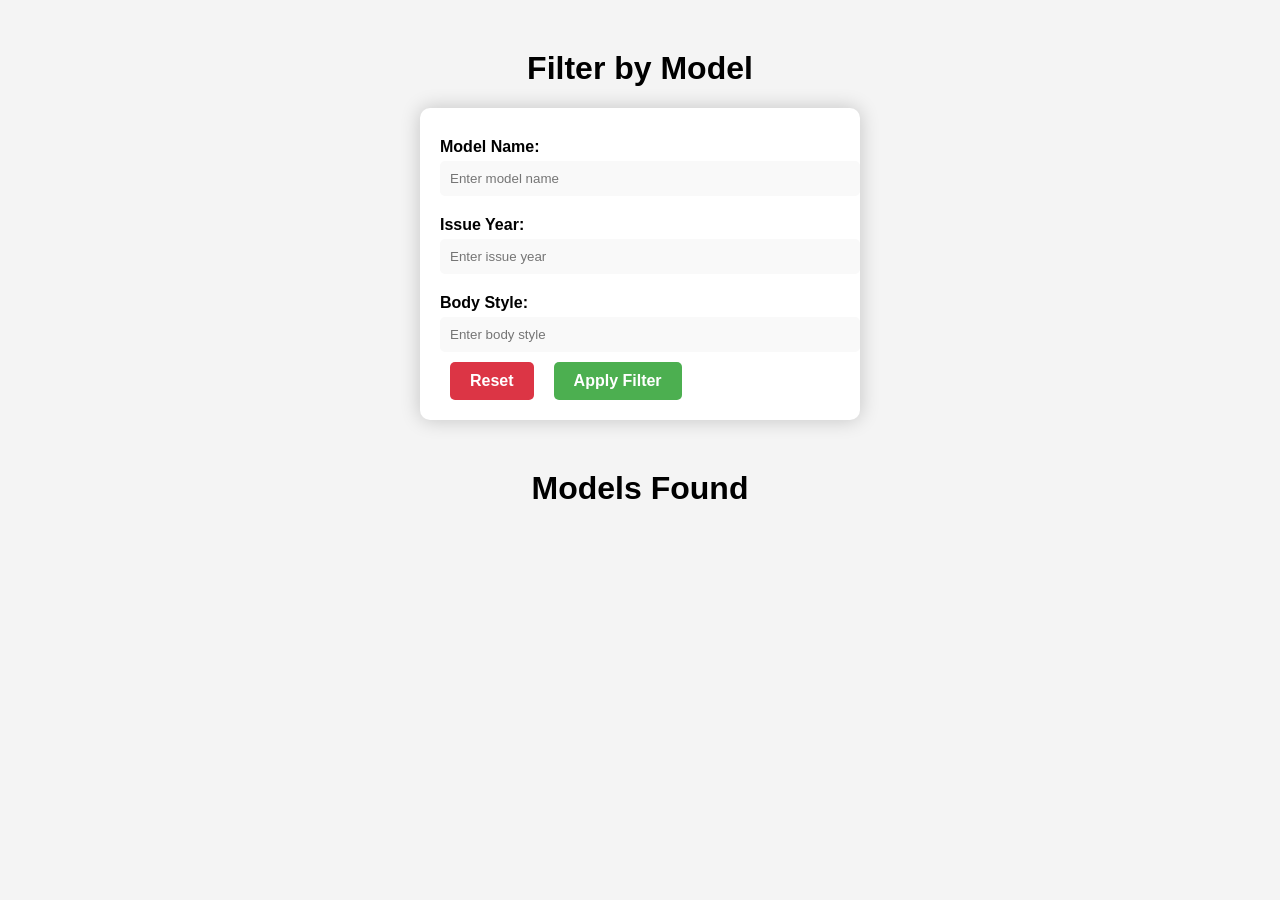
Test: ModelTab › resets model filters
Type "Octavia" into the field labelled "Model Name:".
click(650, 179); type("Octavia")  # box [440,161,860,196]
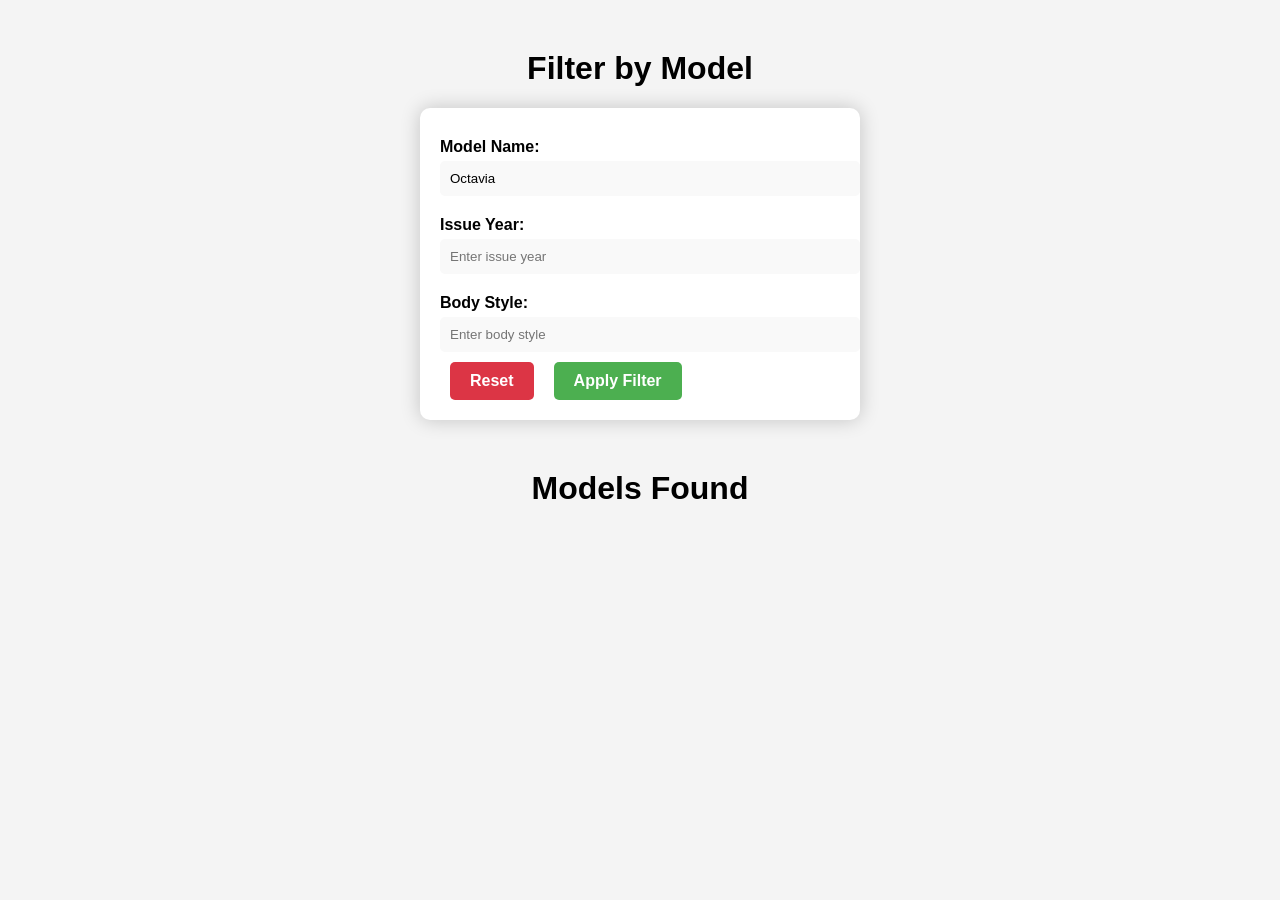
Type "2022" into the number field labelled "Issue Year:".
click(650, 257); type("2022")  # box [440,239,860,274]
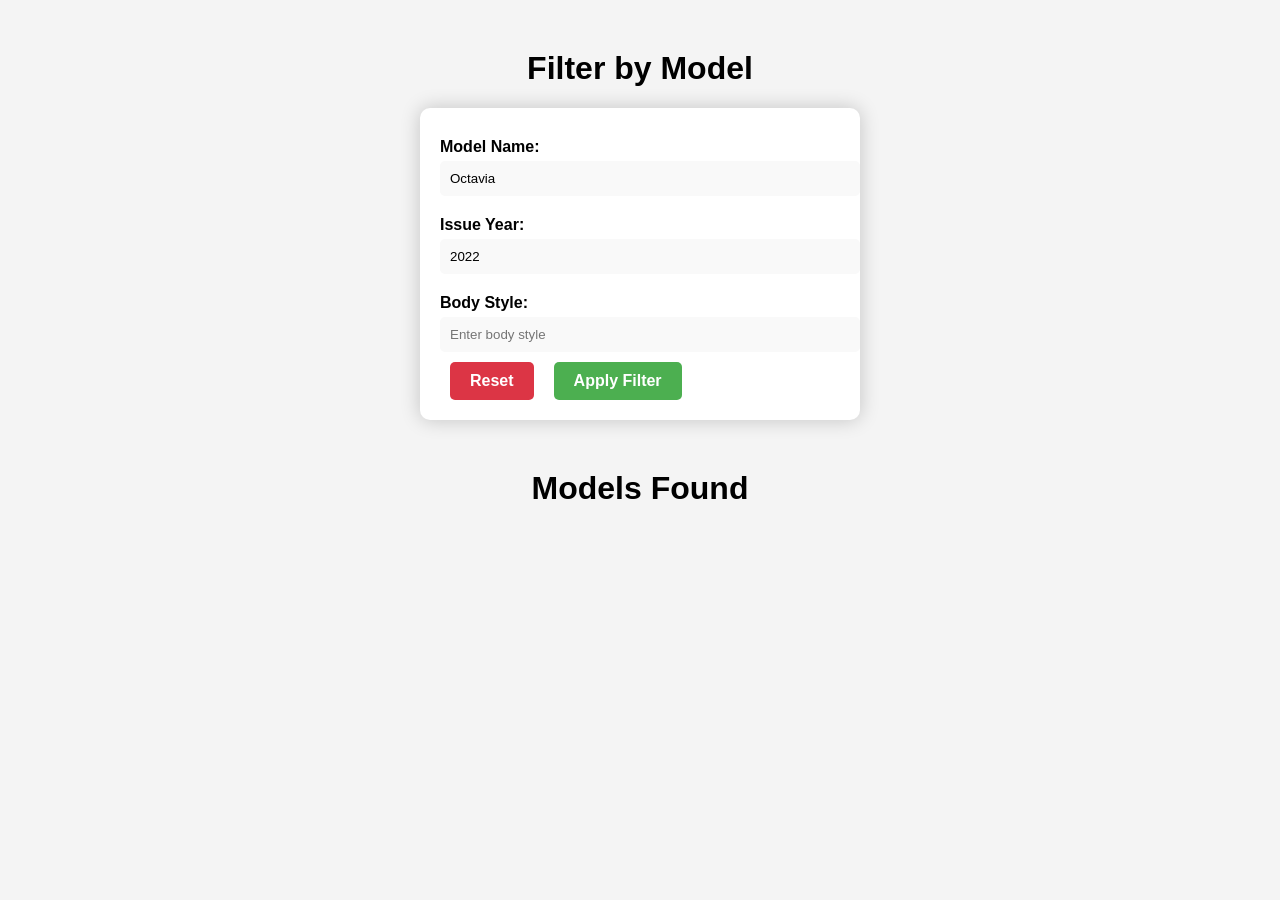
Type "Sedan" into the field labelled "Body Style:".
click(650, 335); type("Sedan")  # box [440,317,860,352]
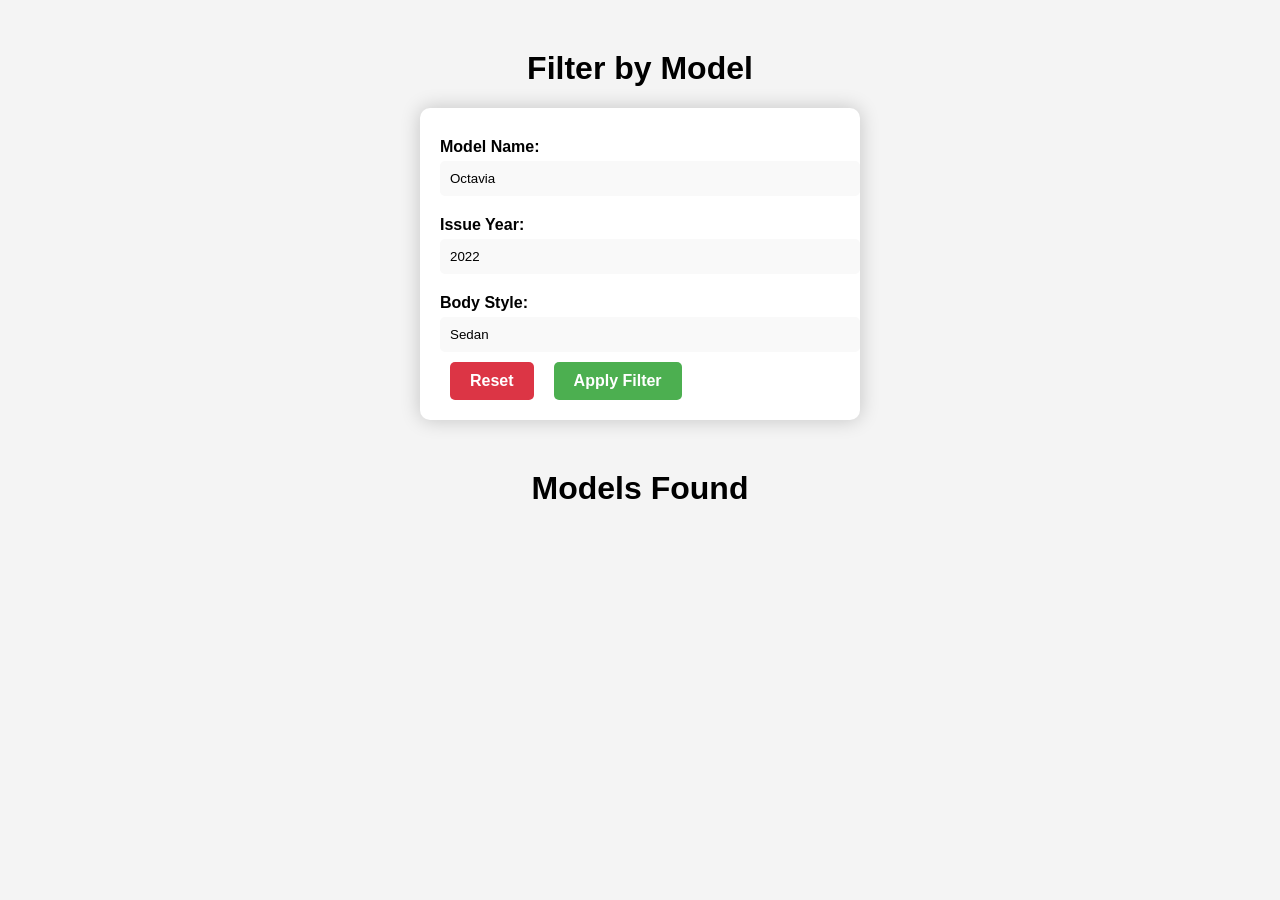
Click the button "Reset".
click(492, 381)  # box [450,362,534,400]
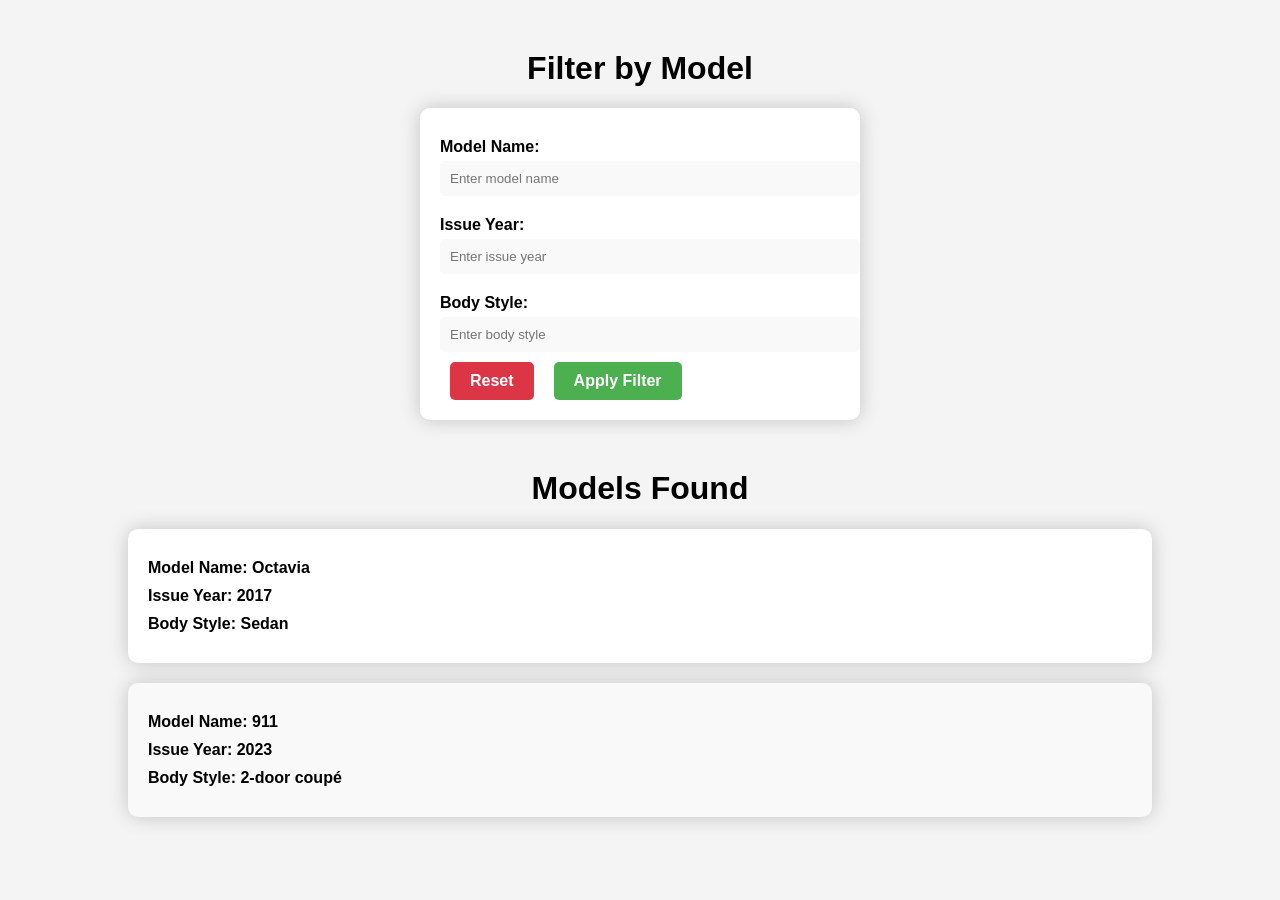
Result: the field labelled "Model Name:" is empty at [440,161,860,196]
Result: the number field labelled "Issue Year:" is empty at [440,239,860,274]
Result: the field labelled "Body Style:" is empty at [440,317,860,352]
